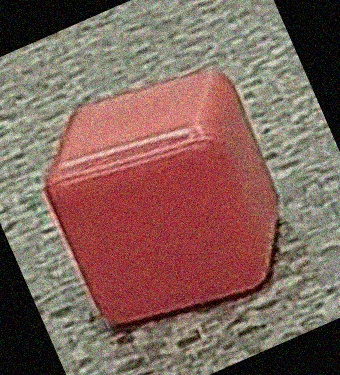red_cube: (38, 64, 308, 345)
